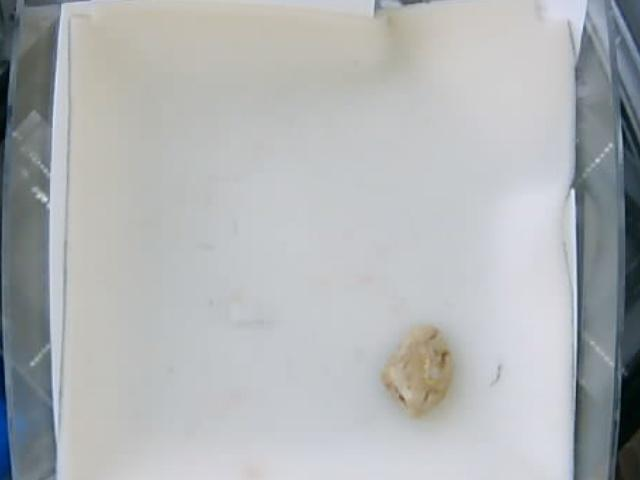Pebble: (381, 321, 453, 417)
